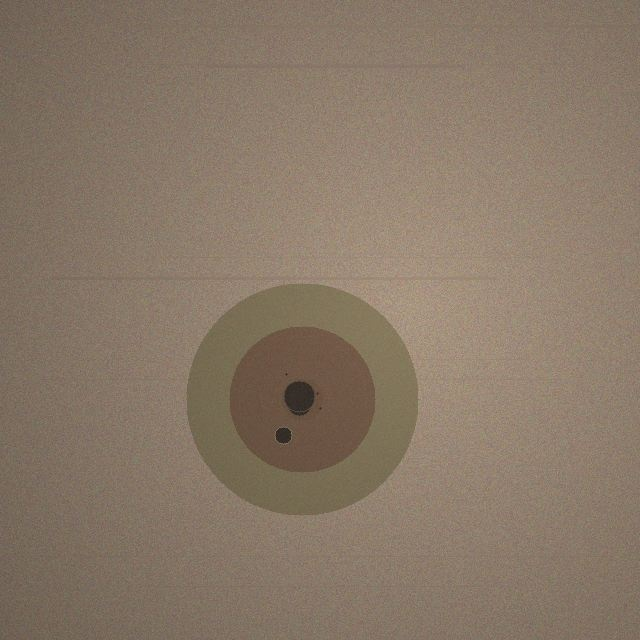shrinkage: (186, 283, 418, 515)
